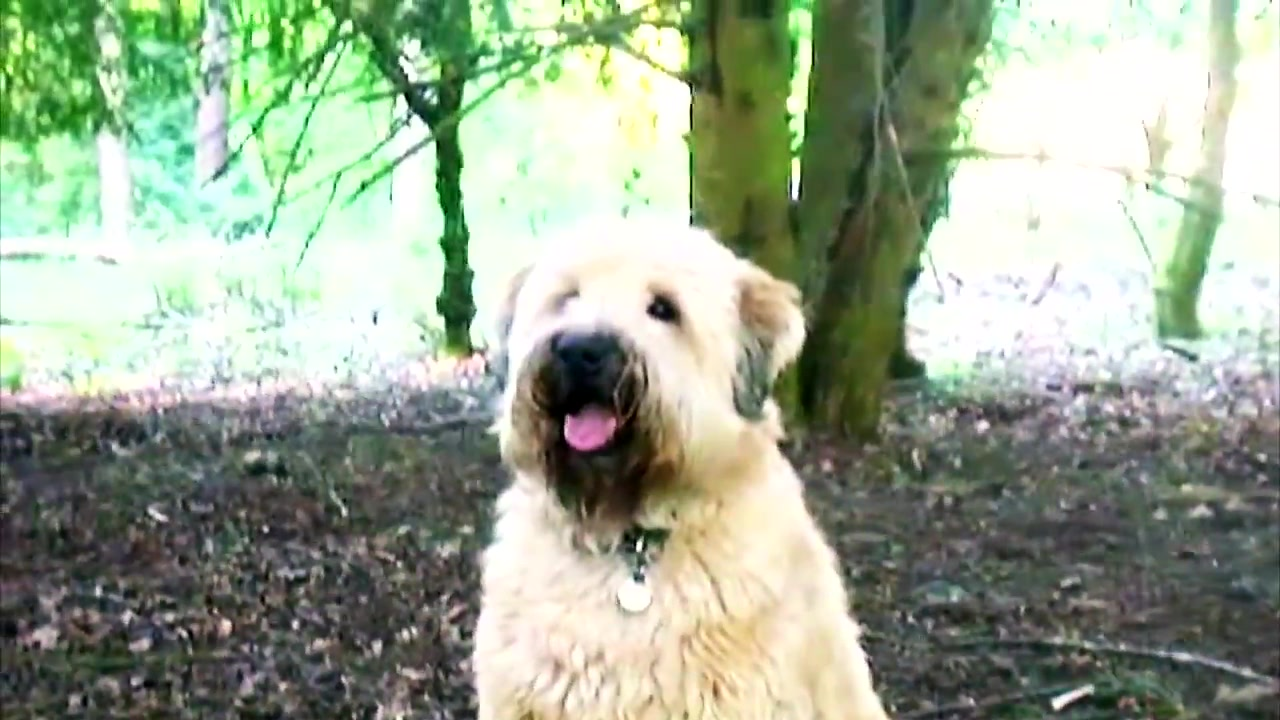dog: (471, 223, 893, 720)
